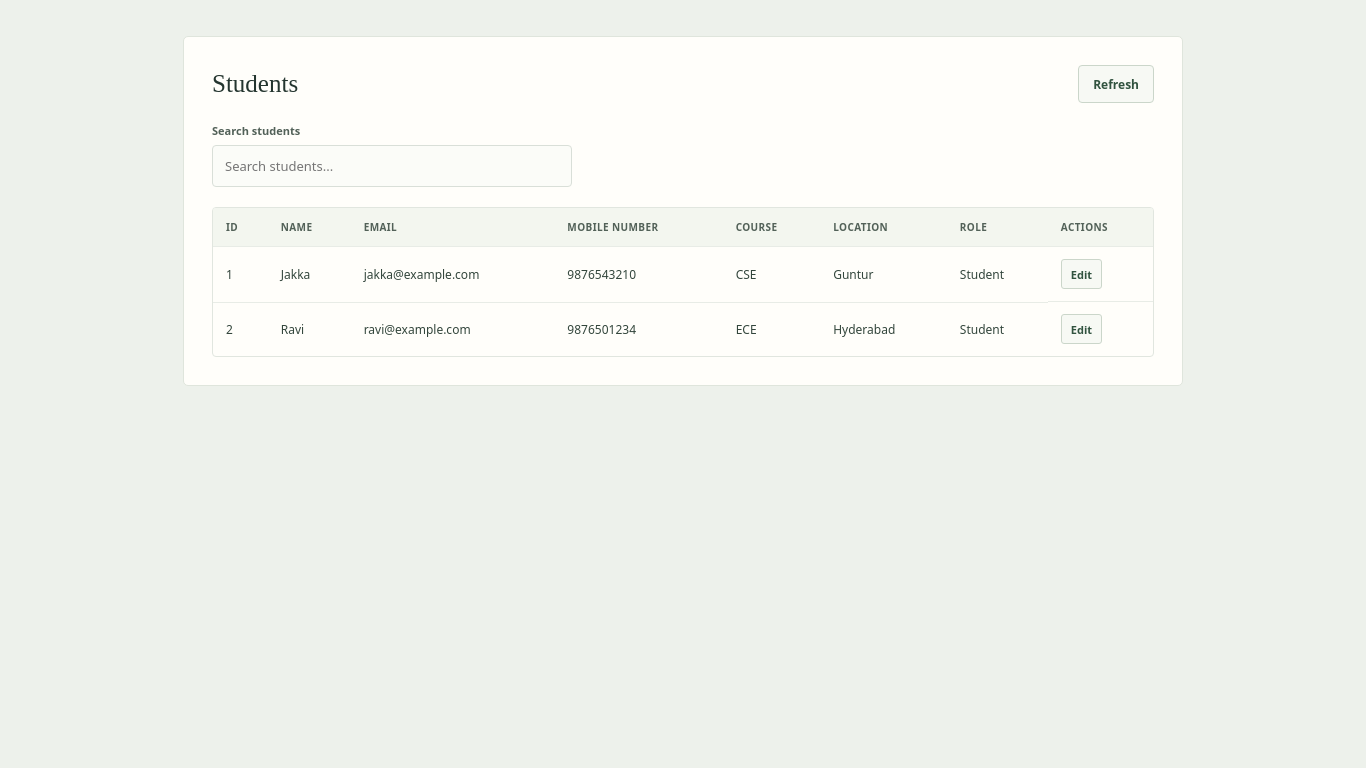
Test: StudentsTable › updates student details successfully
Expected: the text "Jakka" is shown, top-left (268, 246), bottom-right (351, 302)
Click the button "Edit" in the row of "jakka@example.com". click: coordinates (1081, 274)
box: top-left (1061, 259), bottom-right (1102, 289)
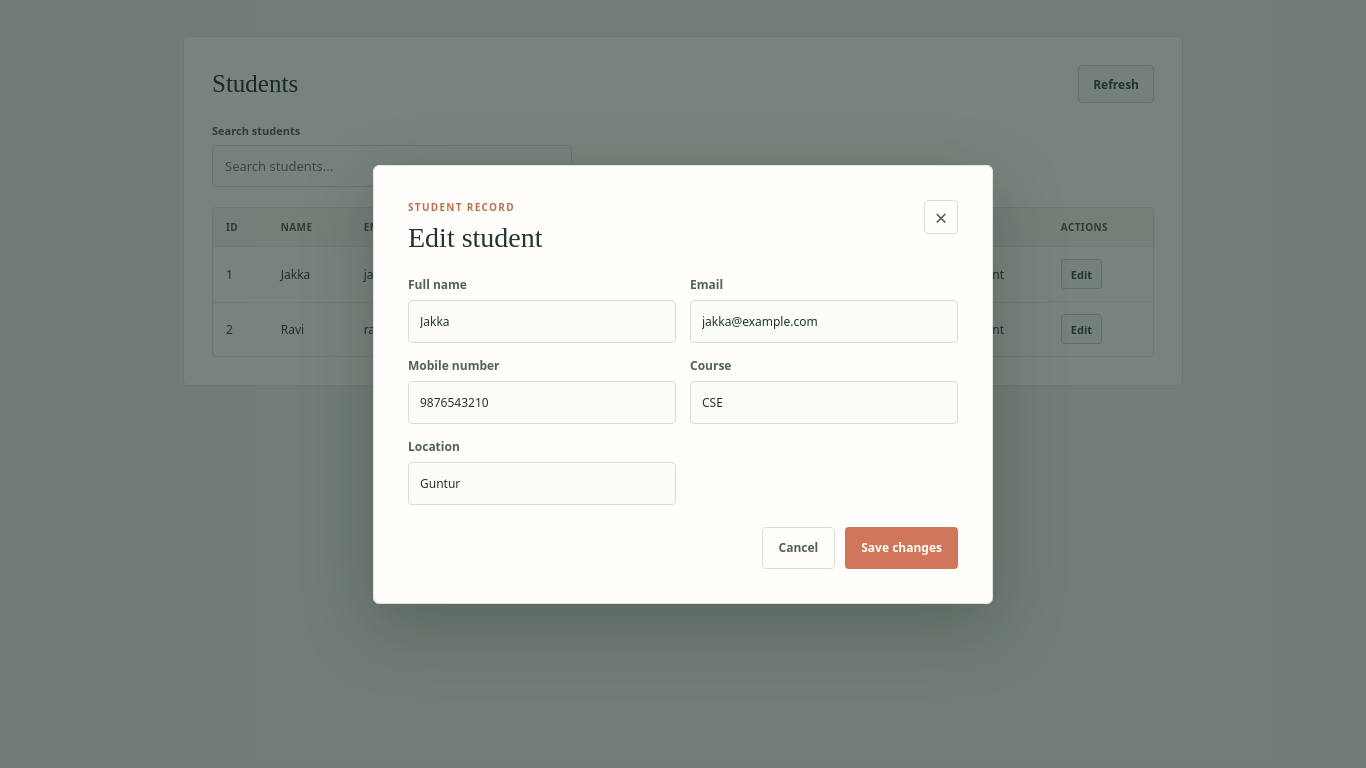
Replace the text in the field labelled "Full name" with "Jakka Updated". click: coordinates (542, 321)
box: top-left (408, 300), bottom-right (676, 342)
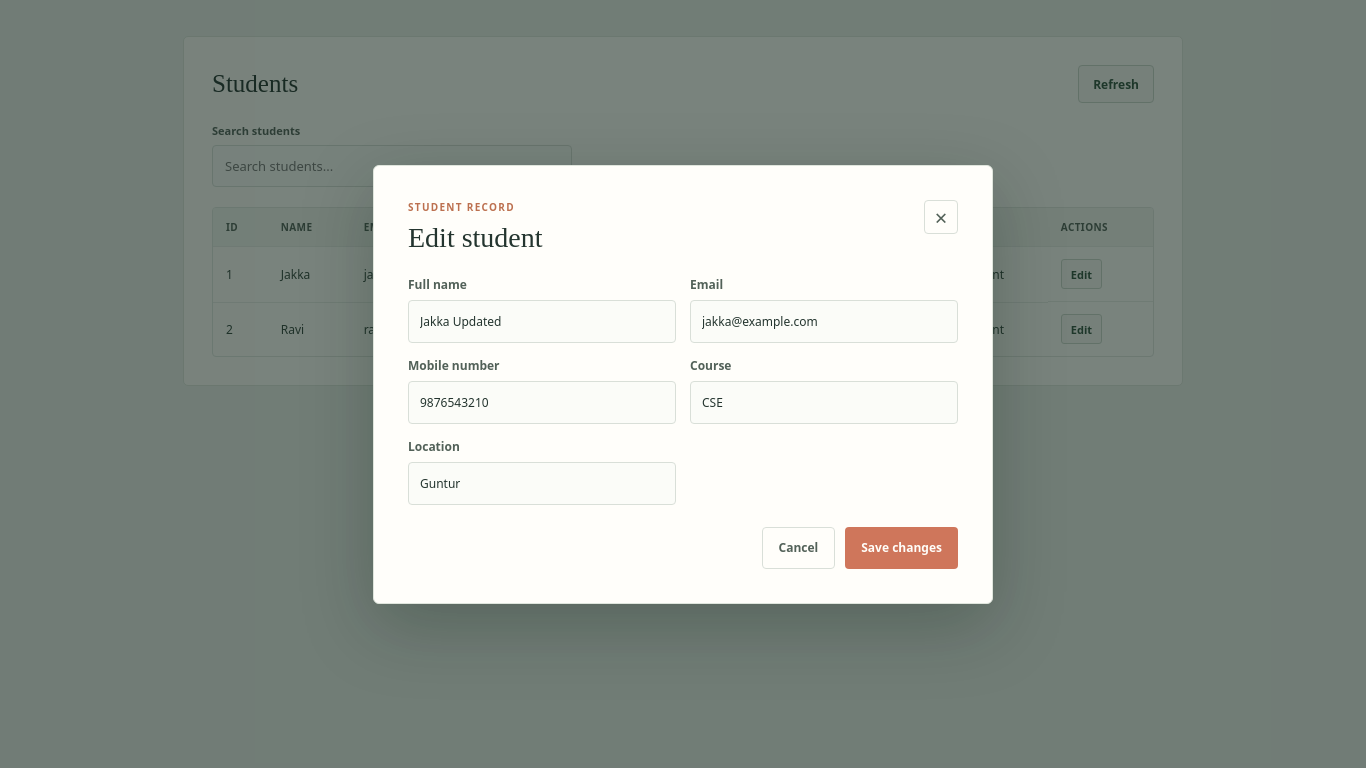
Click the button "Save changes". click: coordinates (902, 548)
box: top-left (845, 526), bottom-right (958, 568)
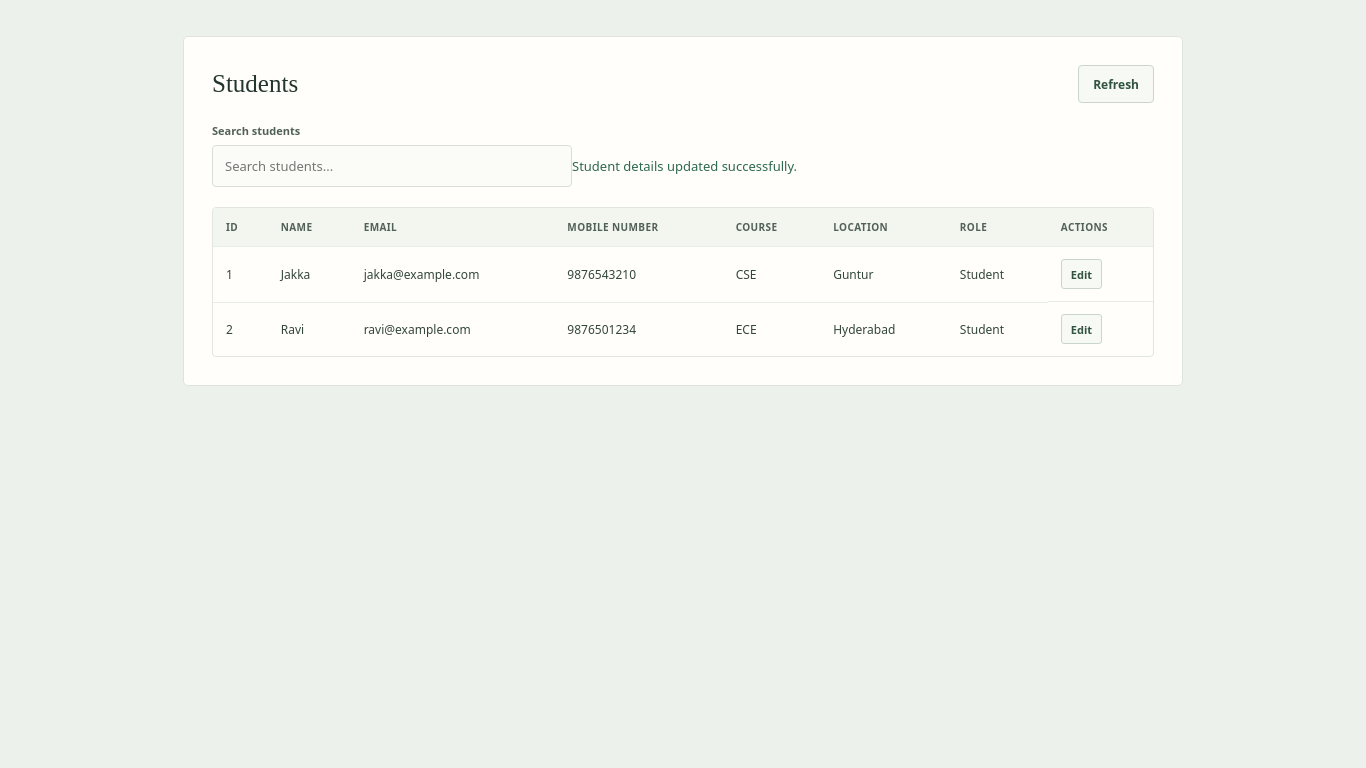
Expected: the text "Student details updated successfully." is shown, top-left (572, 157), bottom-right (797, 175)
